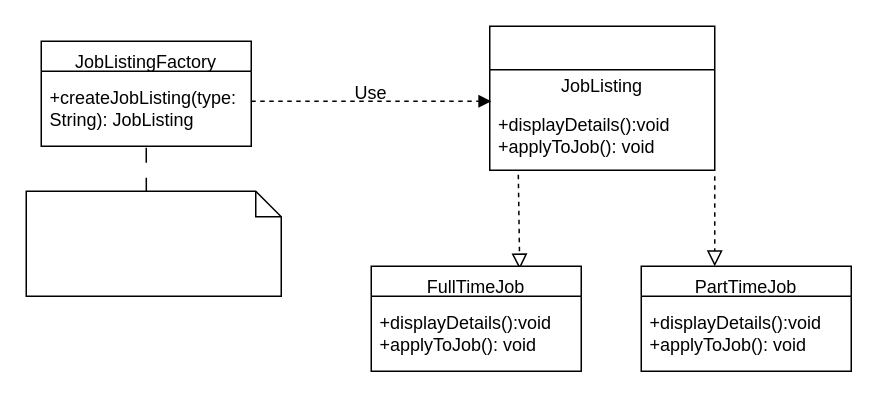
The diagram is 878 pixels wide and 398 high, and some of its shapes have lost their labels. Each missing label, with the box of its shape:
<<Interface>>: (488, 25, 715, 170)
return newFullTimeJob() return newPartTimeJob(): (25, 190, 281, 296)
